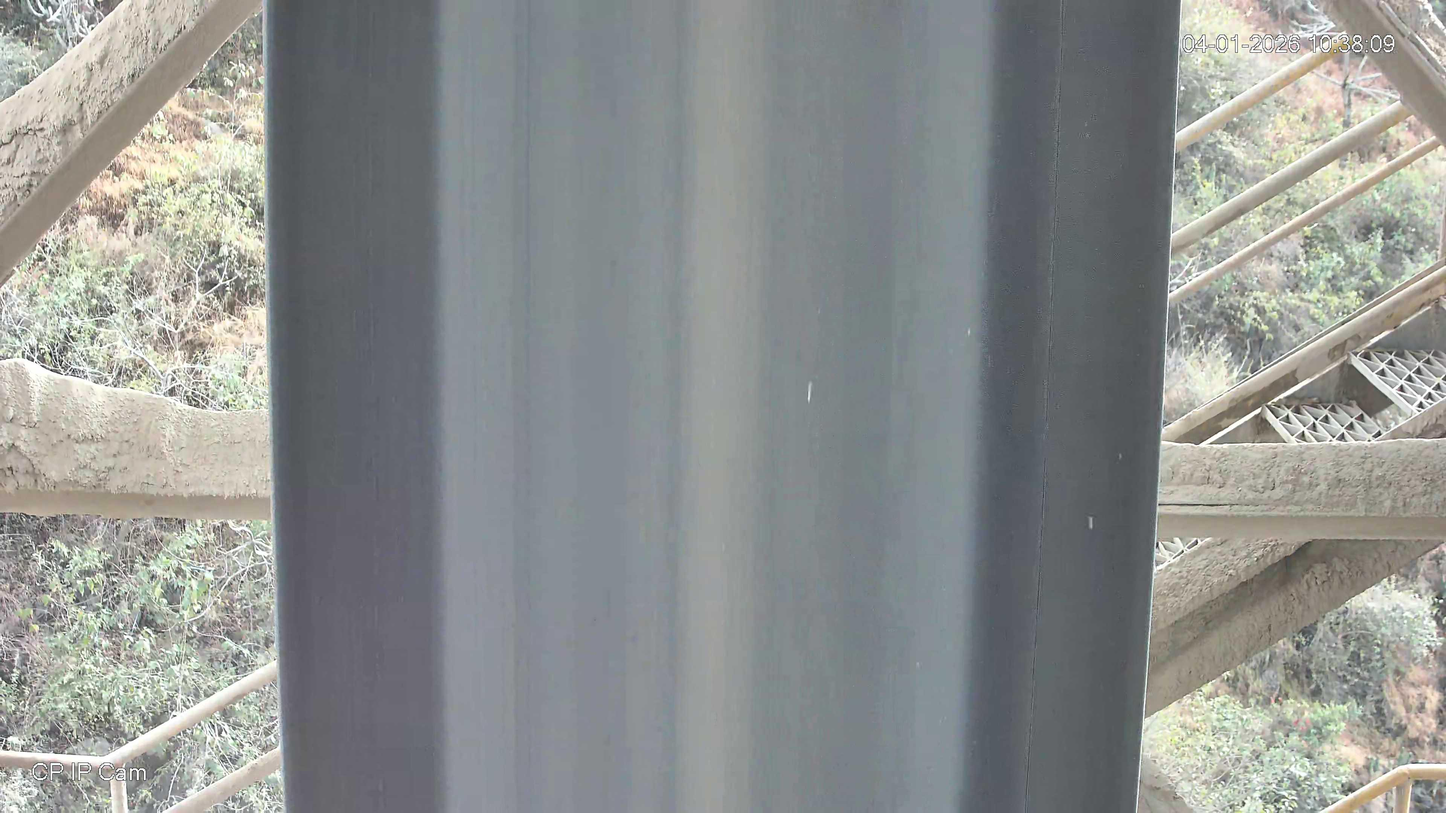belt_roi: (265, 0, 1177, 811)
